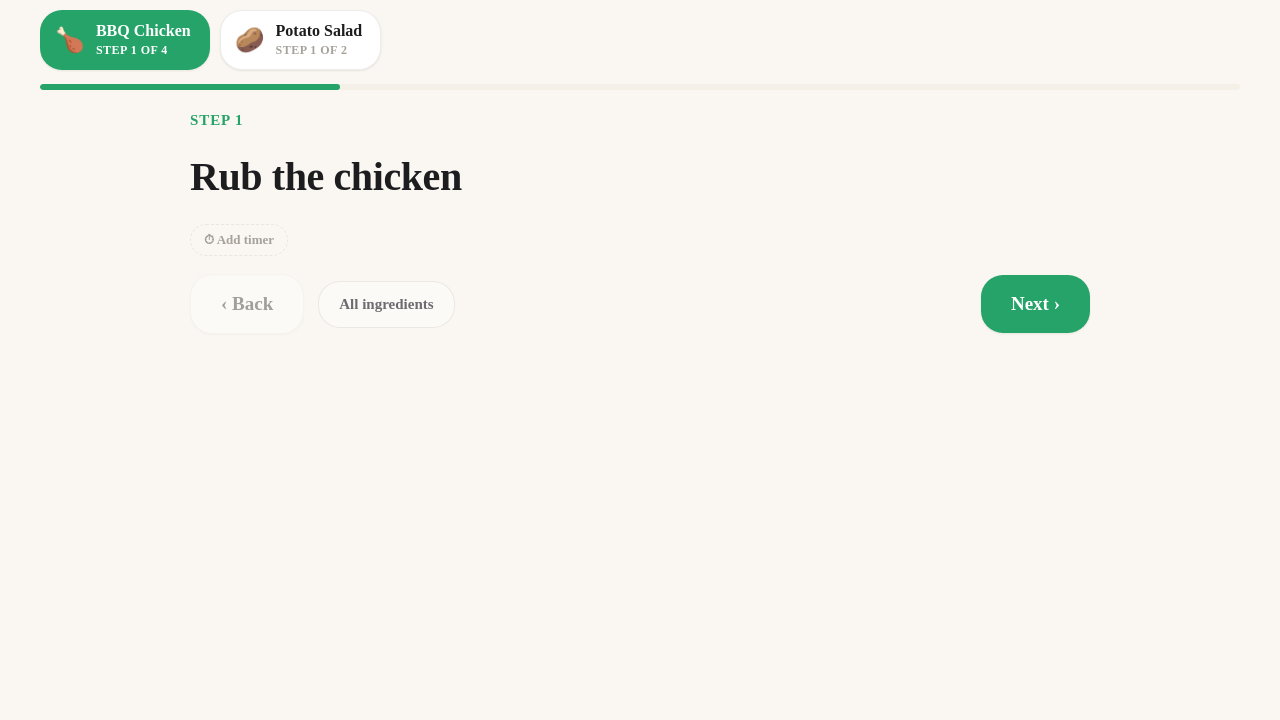
it: CookMode — cooking a plate › the ingredients panel follows the active dish
Expected: the text "Rub the chicken" is shown, [190,151,462,202]
Click the button "All ingredients" at [386, 304], box [318,281,455,328]
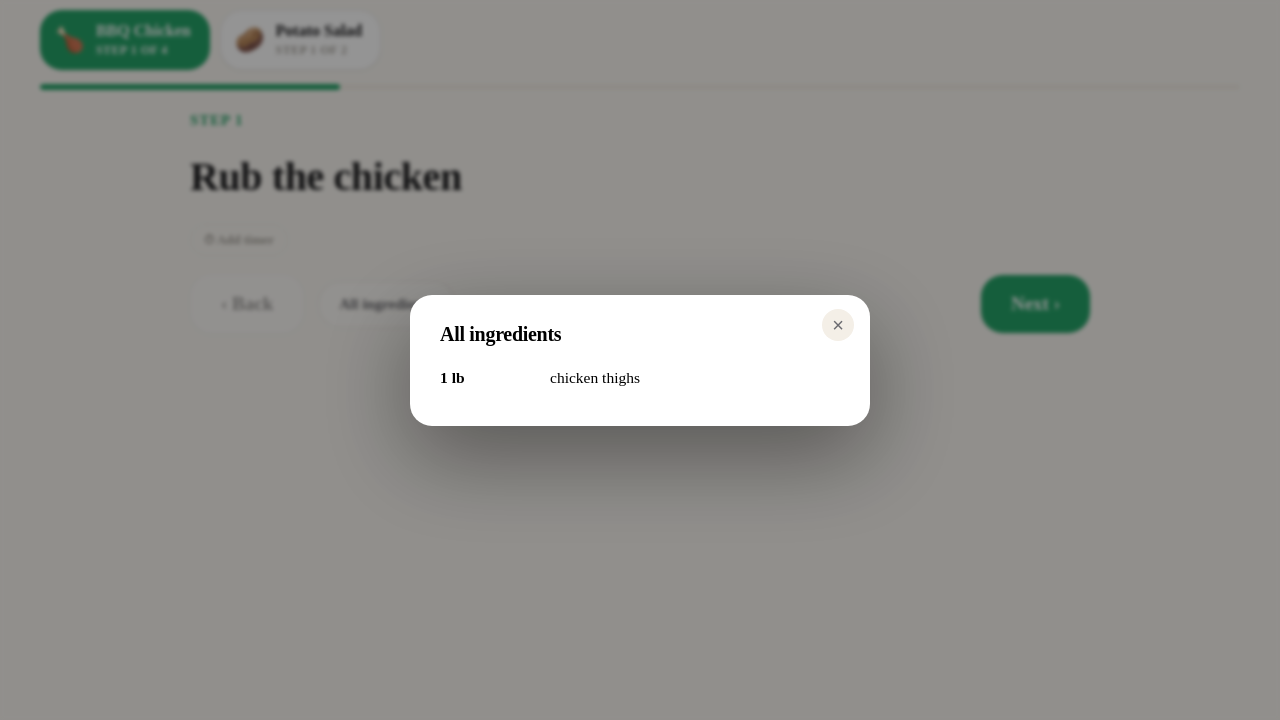
Expected: the text "yukon golds" is not shown
Result: the text "chicken thighs" is shown at [550,368,640,386]
Click the button named "close" at [838, 324], box [822,308,854,340]
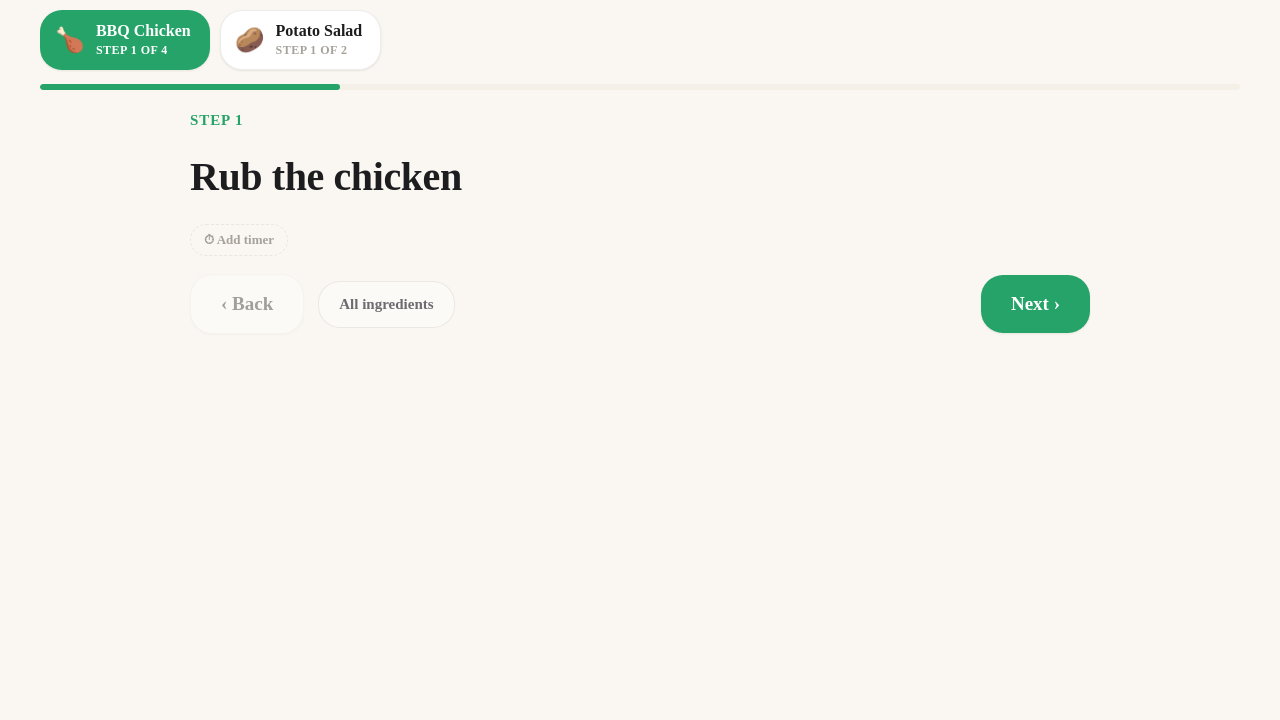
Click the tab "🥔 Potato Salad Step 1 of 2" at [300, 40], box [220,10,381,70]
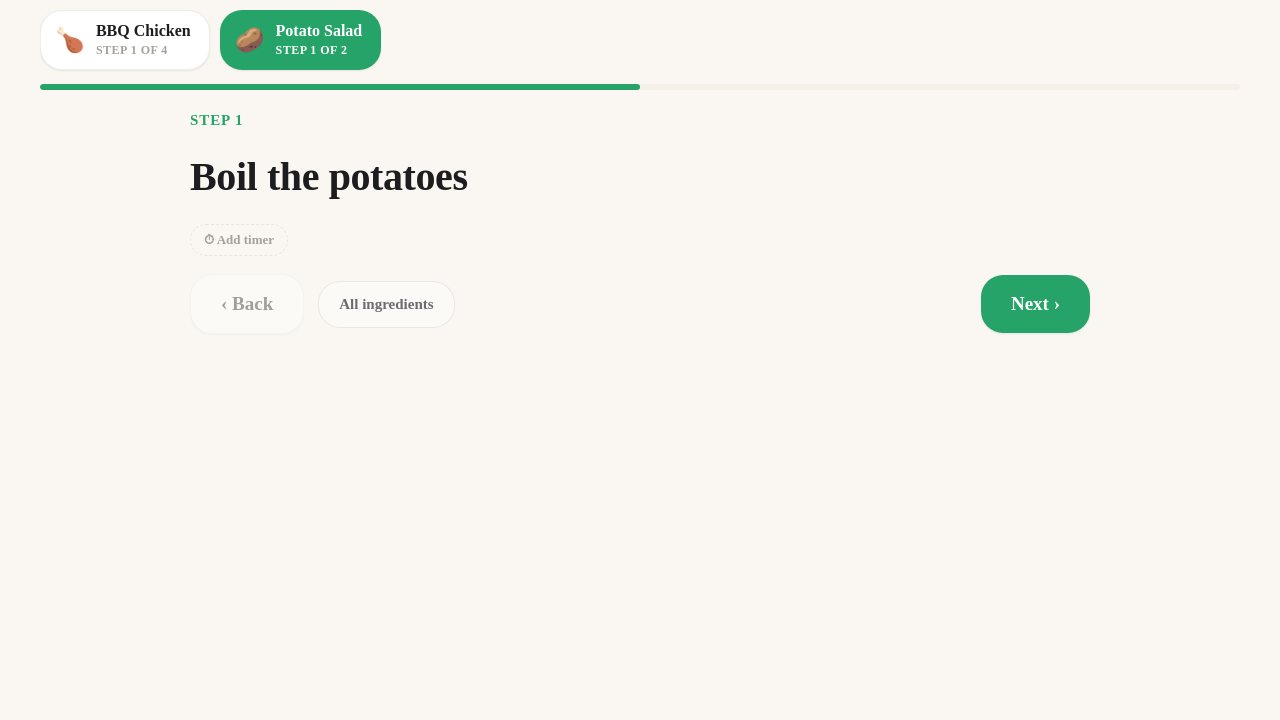
Result: the text "Boil the potatoes" is shown at [190,151,468,202]
Click the button "All ingredients" at [386, 304], box [318,281,455,328]
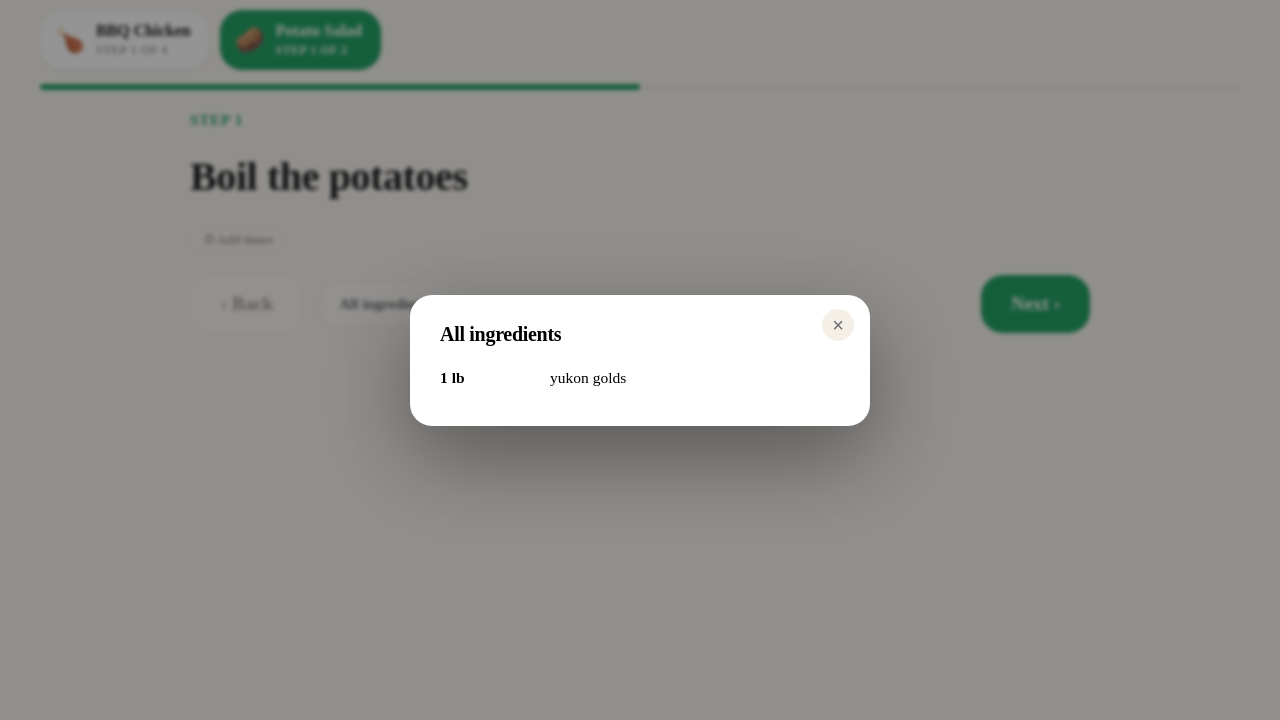
Expected: the text "chicken thighs" is not shown
Result: the text "yukon golds" is shown at [550,368,626,386]
